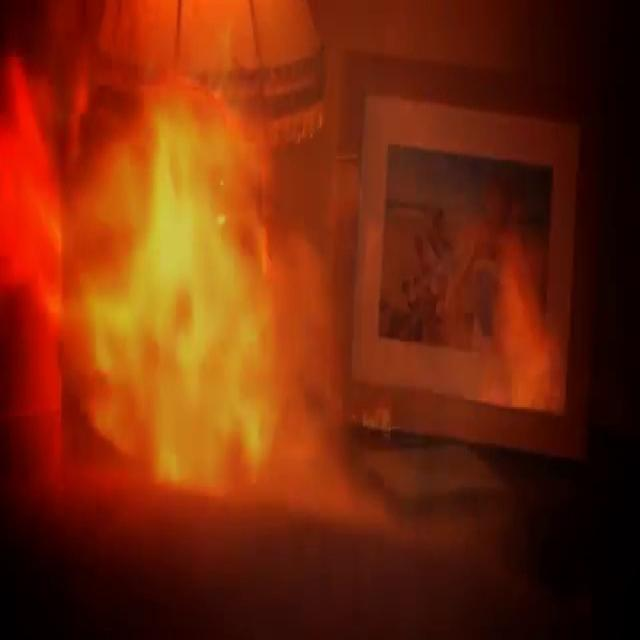fire: (83, 91, 320, 487)
